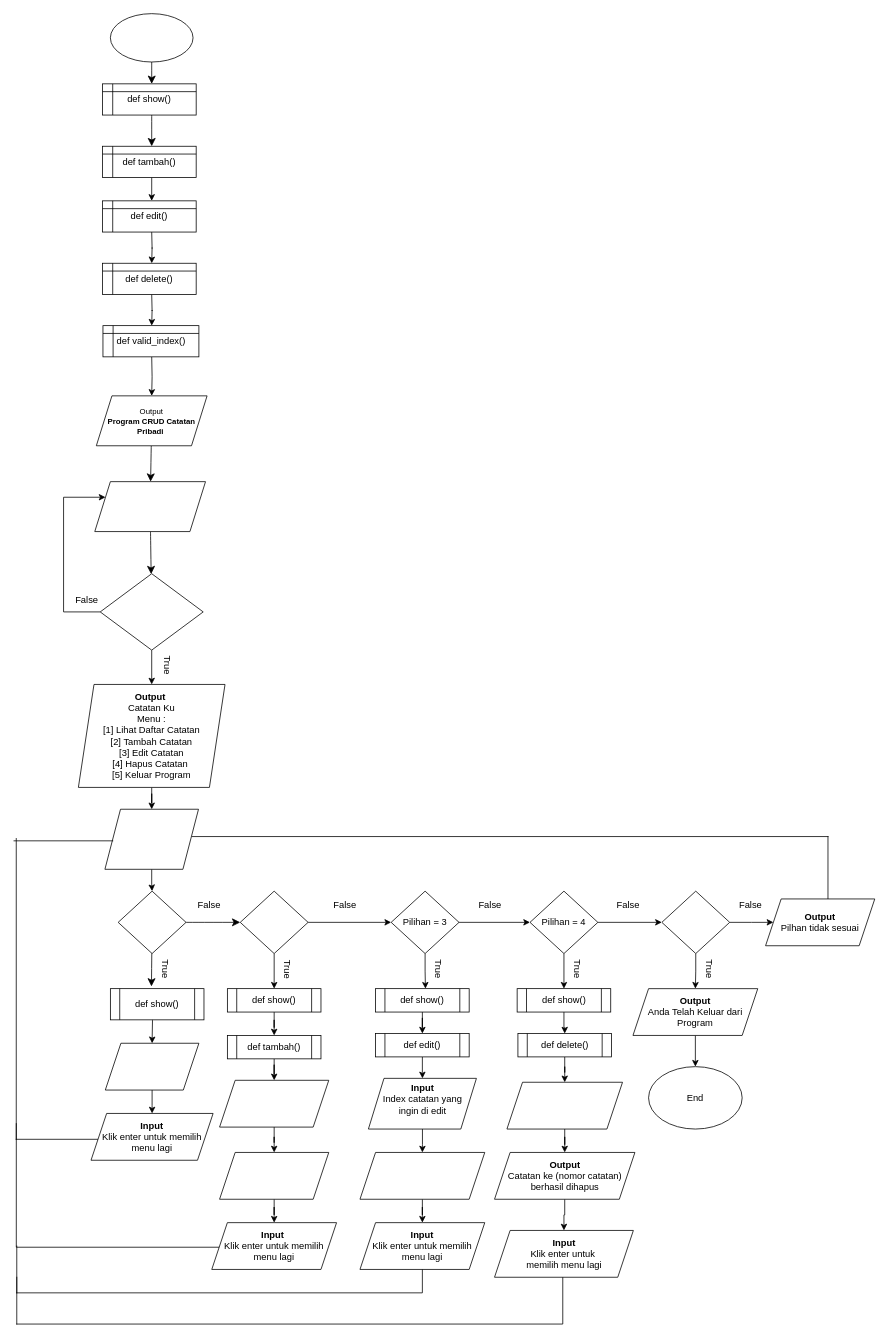
This 888x1338 diagram has some shape labels left out. The shapes that lost their labels are listed below. From the top down, each one's box as (x1, y1, x2, y2) in pixels, then its label:
(110, 13, 193, 62): Start
(94, 481, 206, 532): Input Username Password
(99, 573, 203, 650): username and password "true"
(104, 808, 199, 869): Input Masukkan pilihan
(117, 890, 186, 954): Pilihan = 1
(239, 890, 308, 954): Pilihan = 2
(661, 890, 730, 954): Pilihan = 5
(105, 1042, 199, 1090): Output Lihat Catatan
(219, 1080, 329, 1127): Input Tanggal Catatan Isi Catatan
(506, 1081, 623, 1129): Input Index catatan yang ingin di hapus
(219, 1152, 329, 1199): Output Catatan Berhasil Di Tambahkan
(359, 1152, 485, 1199): Output Catatan berhasil di edit
